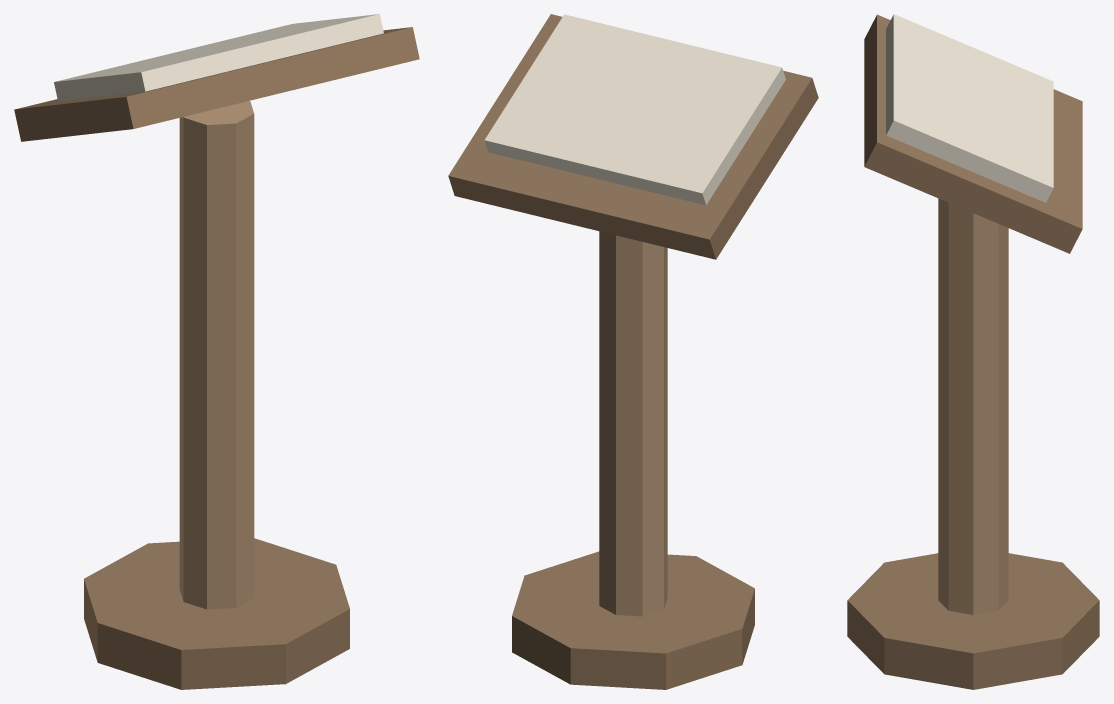
File: lectern.glb
3 renders of one model, left to right at view 1: azimuth 30°, elevation 25°; view 2: azimuth 150°, elevation 25°; view 3: azimuth 270°, elevation 25°, orthographic. The views are drawn at different scales.
Visible parts, largest first — view 1: lectern; view 2: lectern; view 3: lectern.
Boxes of the visible parts, x1,y1,x2,y2 form: lectern: (14,14,419,689); lectern: (448,14,818,689); lectern: (847,14,1099,689).
Bounding box in the file's own units: 0.5999 × 1.25 × 0.4999.
